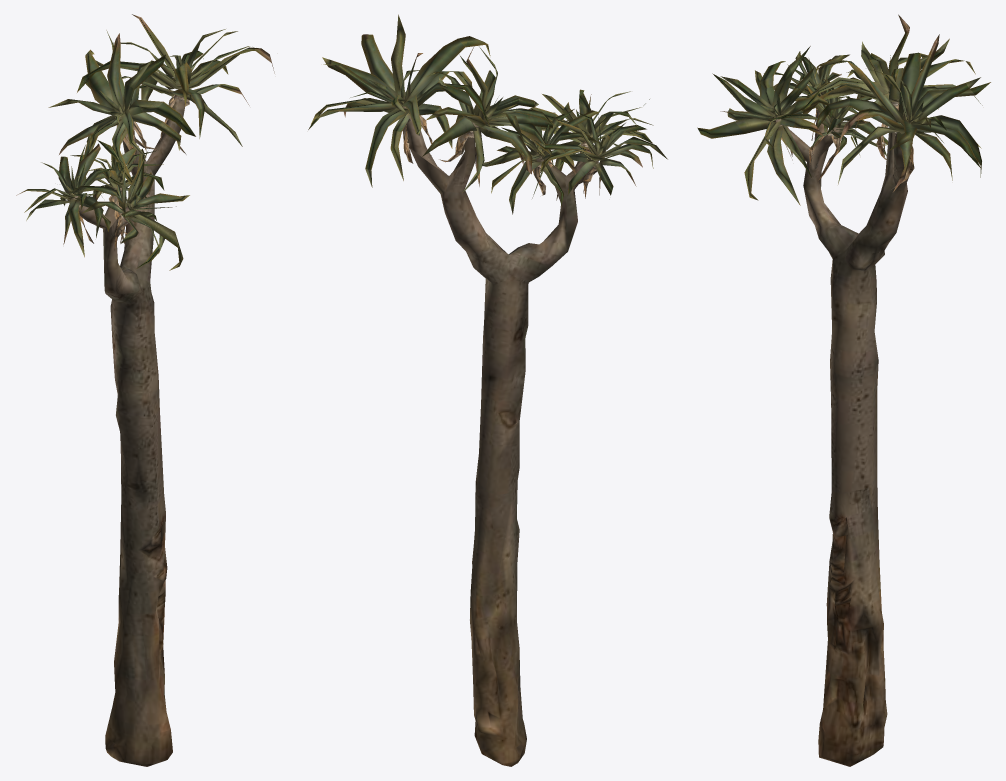
The model's file is tree-quiver-01.lite.3d137a6a.glb.
3 views of the same model, side by side, from view 1: azimuth 30°, elevation 25°; view 2: azimuth 150°, elevation 25°; view 3: azimuth 270°, elevation 25° (orthographic). The views are drawn at different scales.
Parts seen in each view (by area): view 1: model; view 2: model; view 3: model.
Boxes of the visible parts, <box> form: model: <box>16,14,274,766</box>; model: <box>308,14,667,766</box>; model: <box>697,14,990,766</box>.
Bounding box in the file's own units: 1.18 × 2.71 × 0.9676.
Materials: 2 (2 with a texture image).
